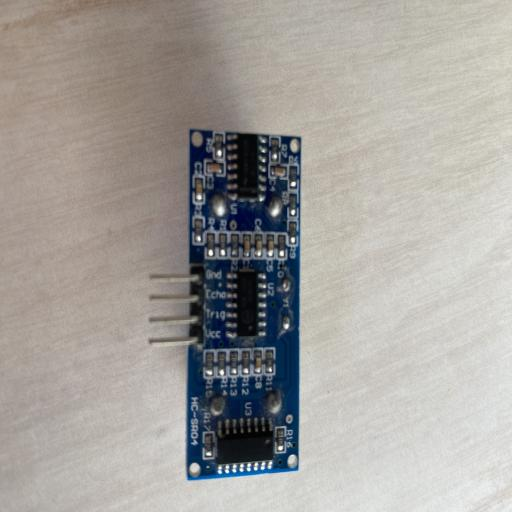Ultrasonic Sensor: (148, 124, 302, 482)
